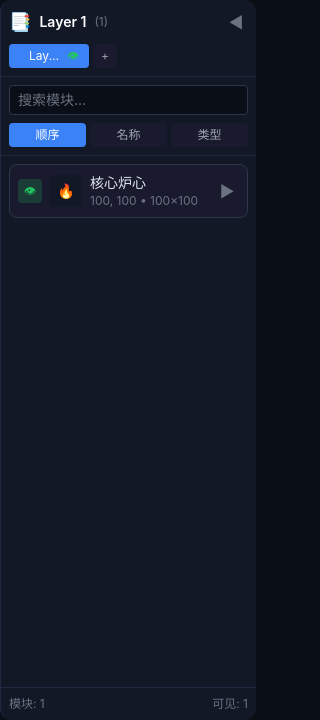
Test: LayersPanel › Rendering › should show filtered state when no matches
The width and height of the screenshot is (320, 720).
Type "nonexistent" into the field with test id "layers-filter-input" at (128, 100), box [9,85,248,115]
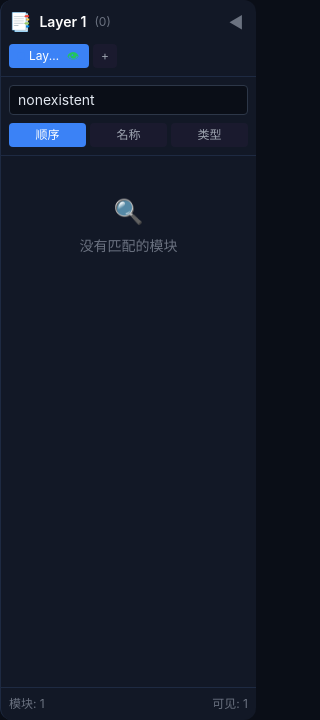
Now the text "没有匹配的模块" is shown, box [80,237,178,254]
